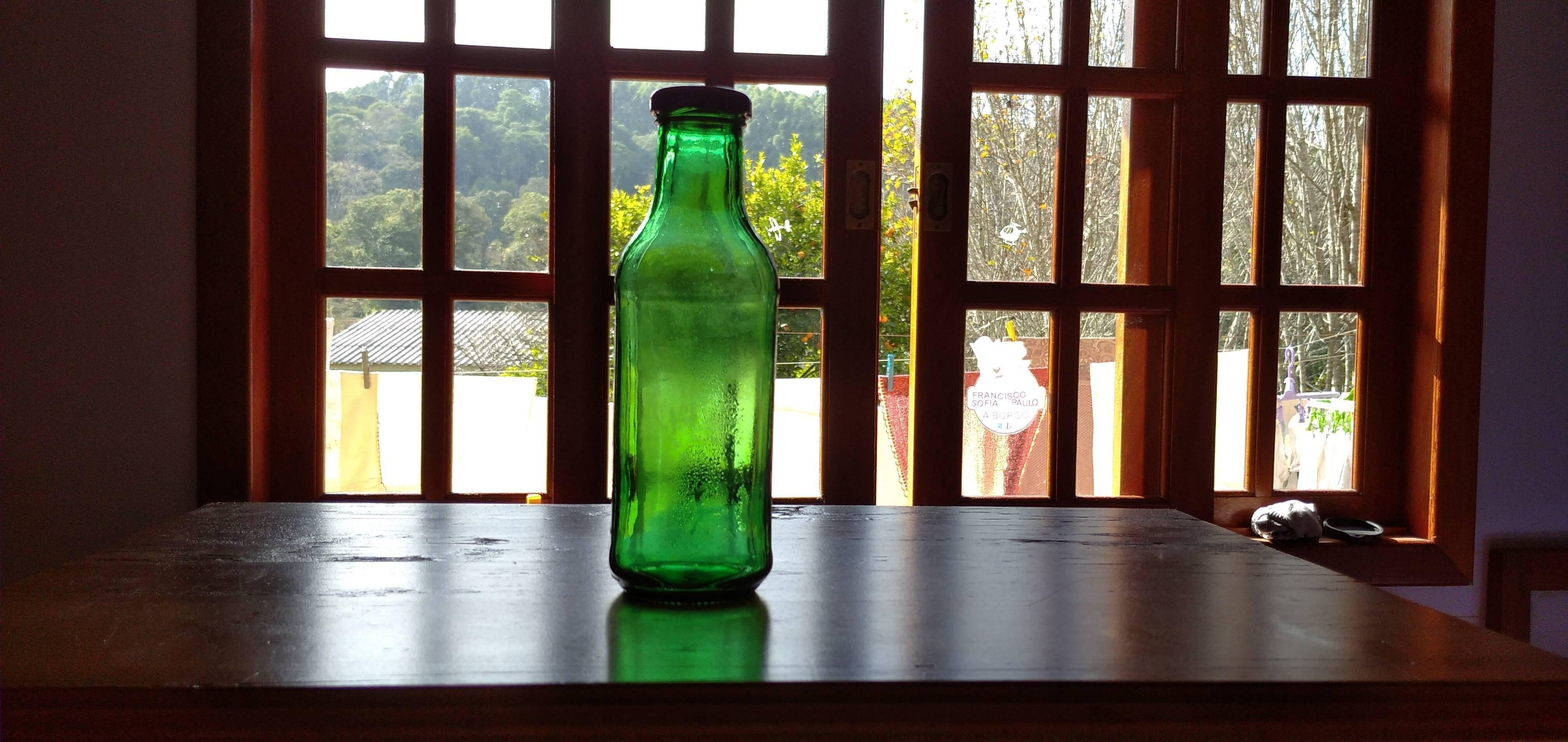bottle-glass: (594, 75, 786, 615)
